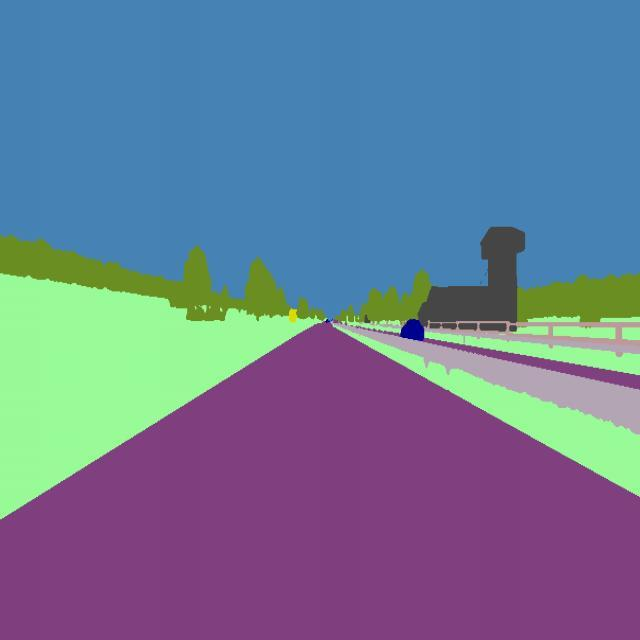safe: (396, 312, 427, 349)
